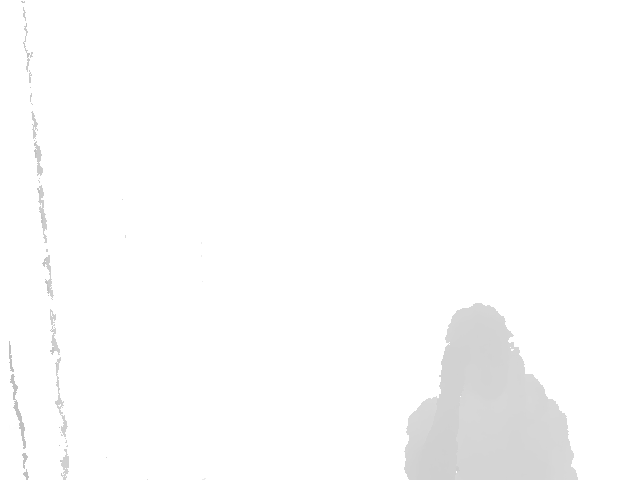head: (439, 304, 526, 407)
person: (403, 302, 581, 480)
